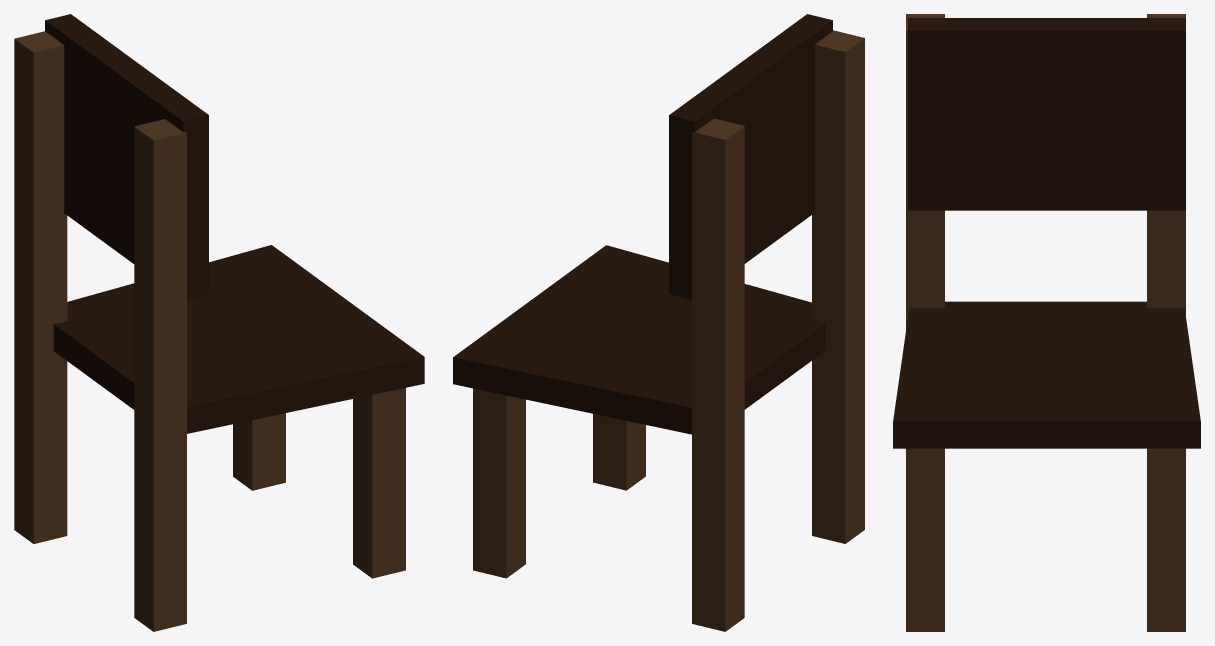
The model's file is krzesło.FBX.
The picture shows the model from 3 angles, left to right: view 1: azimuth 30°, elevation 25°; view 2: azimuth 150°, elevation 25°; view 3: azimuth 270°, elevation 25°; orthographic projection.
Parts seen in each view (by area): view 1: Box001; view 2: Box001; view 3: Box001.
Part boxes in pixels (x1=…): Box001: x1=14, y1=14, x2=424, y2=631; Box001: x1=453, y1=14, x2=864, y2=631; Box001: x1=893, y1=14, x2=1200, y2=631.
Bounding box in the file's own units: 23.67 × 42.94 × 23.71.
